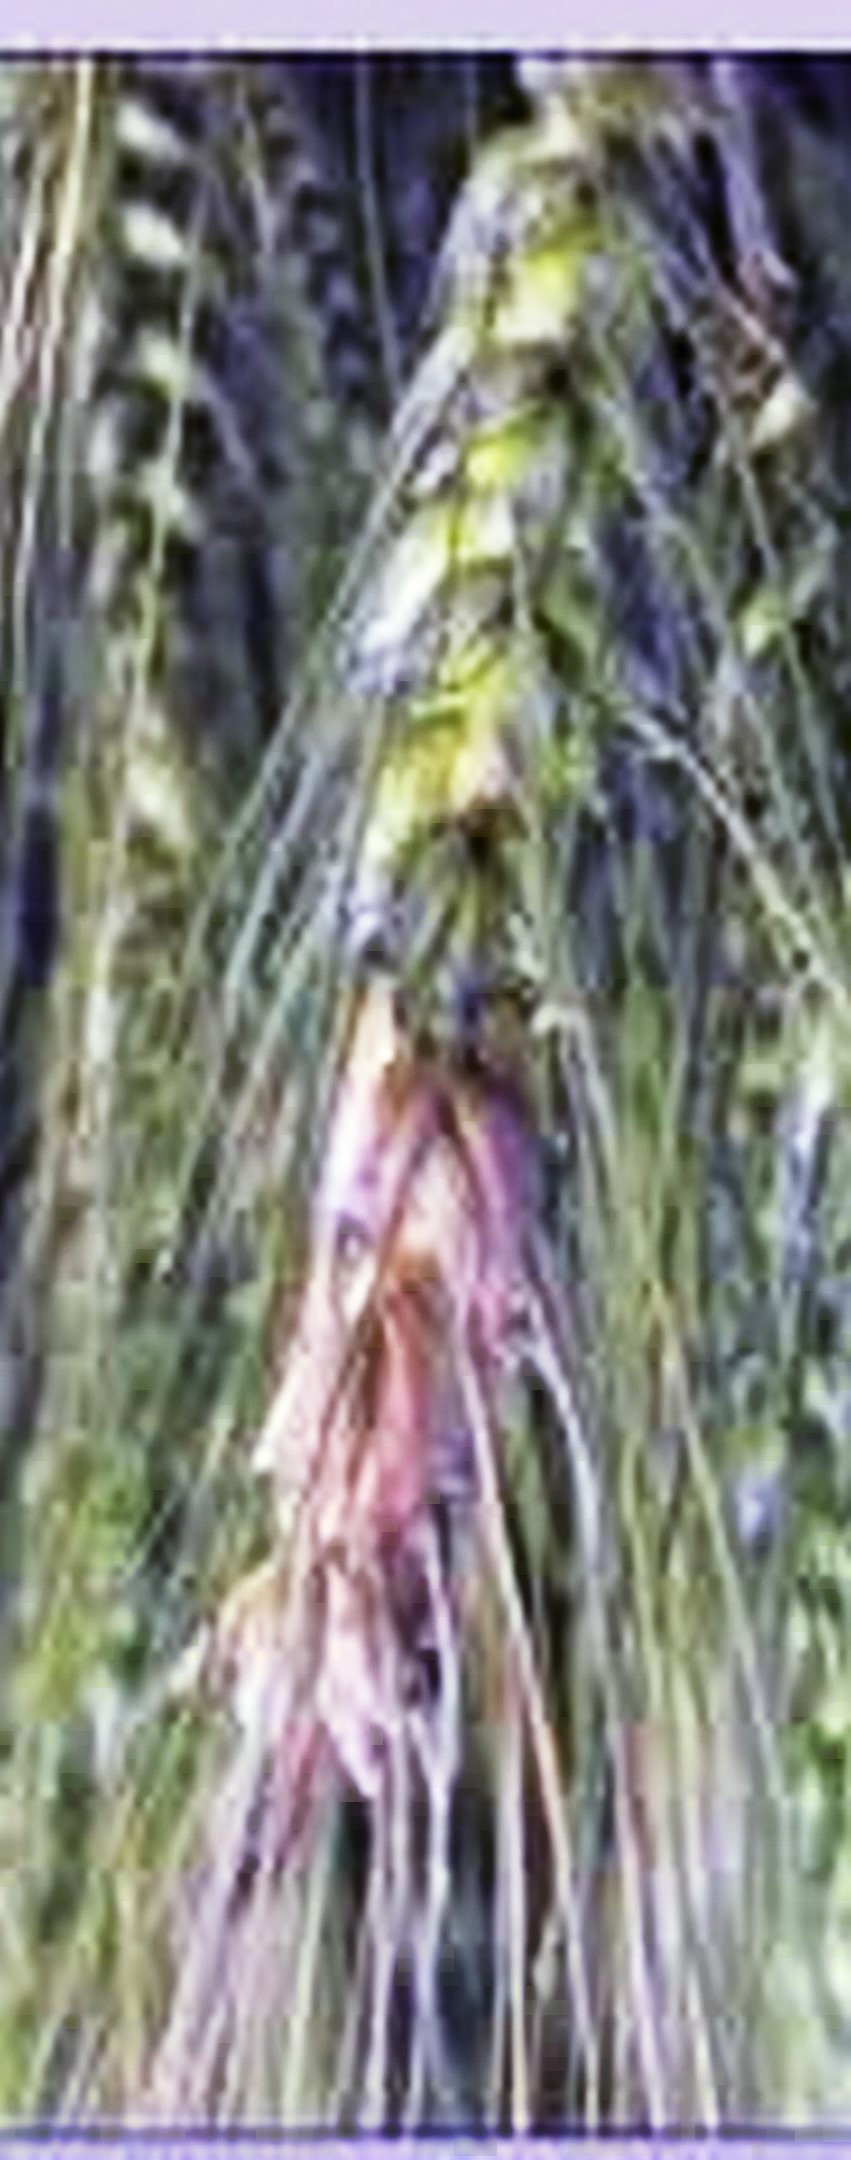Wheat scab: (259, 163, 712, 1743)
